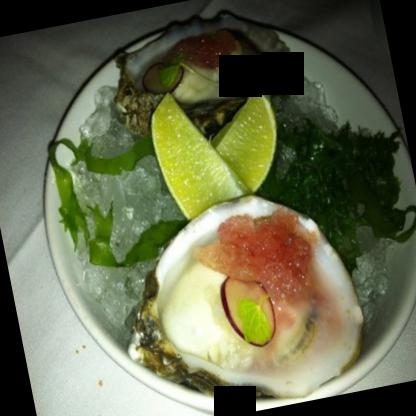oyster: (124, 179, 376, 415)
